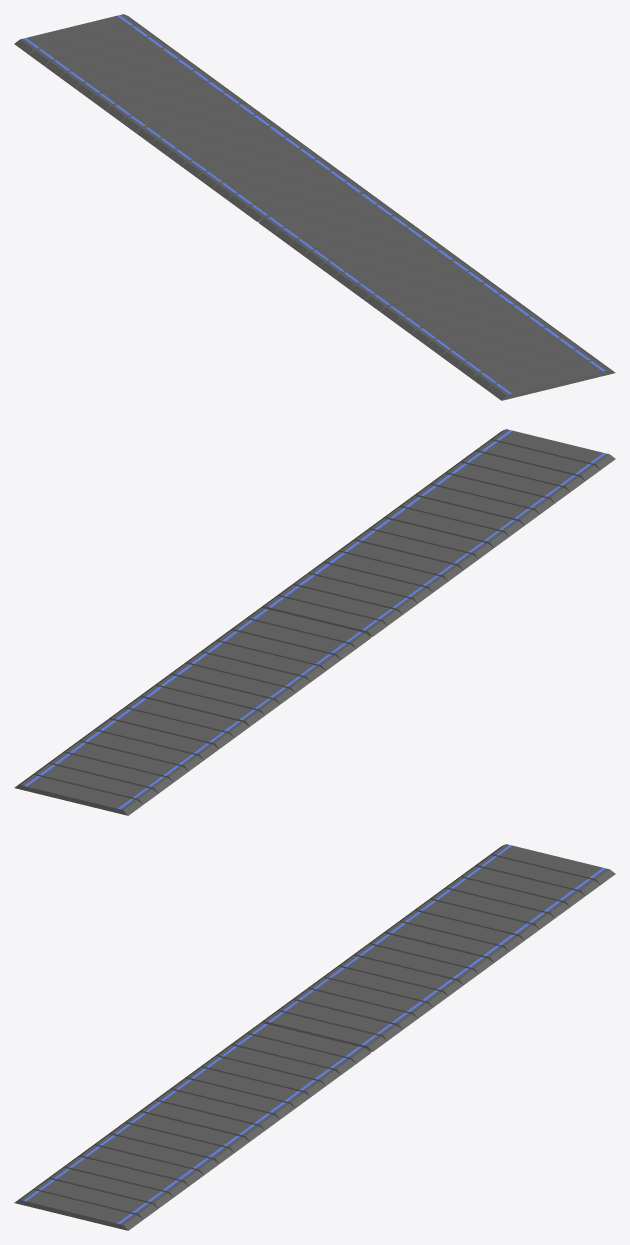
Rendered from Dest_PowerPlant_Belts.FBX.
The picture shows the model from 3 angles, top to bottom: view 1: azimuth 30°, elevation 25°; view 2: azimuth 150°, elevation 25°; view 3: azimuth 330°, elevation 25°; orthographic projection.
Visible parts, largest first — view 1: Box031; view 2: Box031; view 3: Box031.
Boxes of the visible parts, left/top/right/bottom form: Box031: left=14, top=14, right=615, bottom=400; Box031: left=14, top=429, right=615, bottom=815; Box031: left=14, top=844, right=615, bottom=1230.
Size of the model in its own units: 44.72 by 1.44 by 330.
